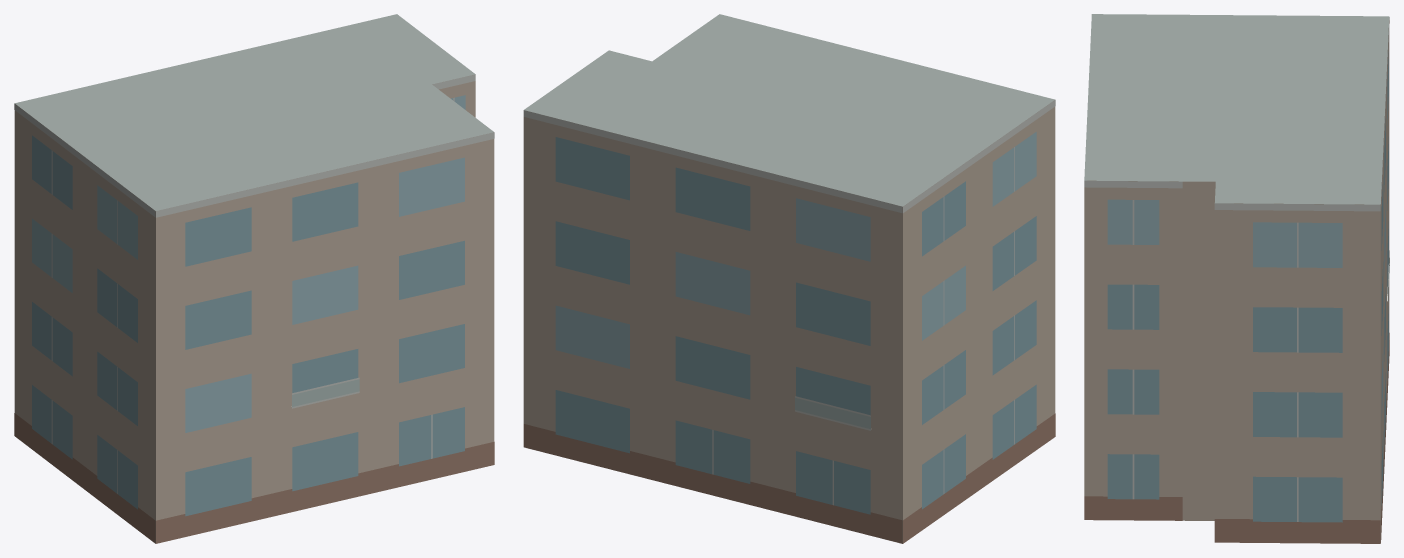
The model's file is residential-df338c39-af7d-4298-bfb6-0611a145a45b.glb.
3 views of the same model, side by side, from view 1: azimuth 30°, elevation 25°; view 2: azimuth 150°, elevation 25°; view 3: azimuth 270°, elevation 25° (orthographic).
Parts seen in each view (by area): view 1: residential-df338c39-af7d-4298-bfb6-0611a145a45b.tmp; view 2: residential-df338c39-af7d-4298-bfb6-0611a145a45b.tmp; view 3: residential-df338c39-af7d-4298-bfb6-0611a145a45b.tmp.
Part boxes in pixels (box(x1,y1,x2,y2)): residential-df338c39-af7d-4298-bfb6-0611a145a45b.tmp: box(14, 14, 494, 543); residential-df338c39-af7d-4298-bfb6-0611a145a45b.tmp: box(523, 14, 1055, 543); residential-df338c39-af7d-4298-bfb6-0611a145a45b.tmp: box(1084, 14, 1389, 543).
Size of the model in its own units: 14.71 by 12.2 by 9.96.
